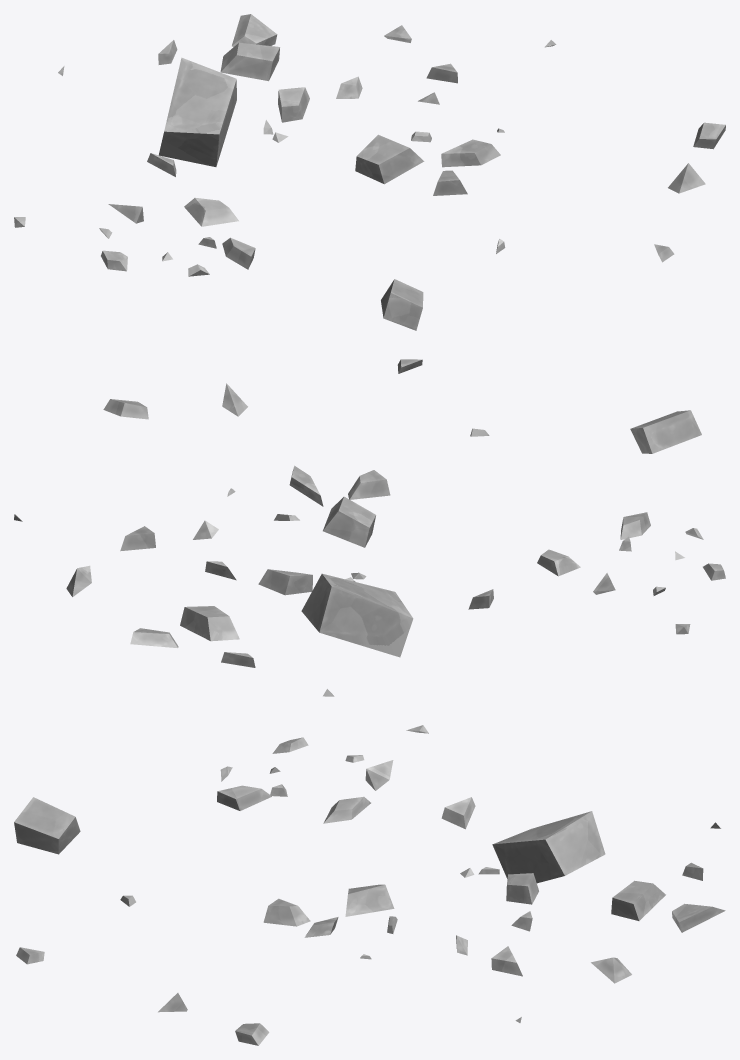
File: sculpted_gravel_02.glb
3 views of the same model, one above another, from view 1: azimuth 30°, elevation 25°; view 2: azimuth 150°, elevation 25°; view 3: azimuth 270°, elevation 25° (orthographic). The views are drawn at different scales.
Visible parts, largest first — view 1: sculpted_gravel_02; view 2: sculpted_gravel_02; view 3: sculpted_gravel_02.
Boxes of the visible parts, left/top/right/bottom form: sculpted_gravel_02: left=14, top=14, right=725, bottom=330; sculpted_gravel_02: left=14, top=359, right=725, bottom=696; sculpted_gravel_02: left=14, top=725, right=725, bottom=1045.
Bounding box in the file's own units: 2.59 × 0.3125 × 2.48.
1 material, 1 textured.
